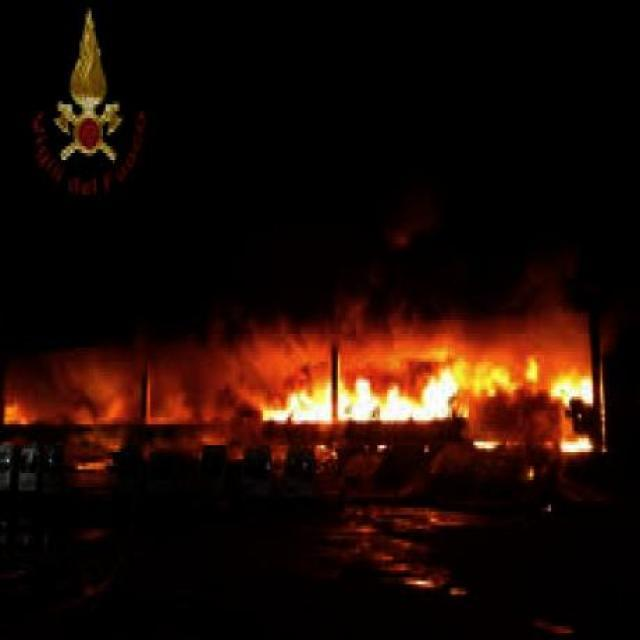Fire: (256, 369, 463, 429), (463, 354, 608, 406), (554, 430, 592, 456)
Smoke: (248, 272, 616, 364), (11, 322, 253, 442)
